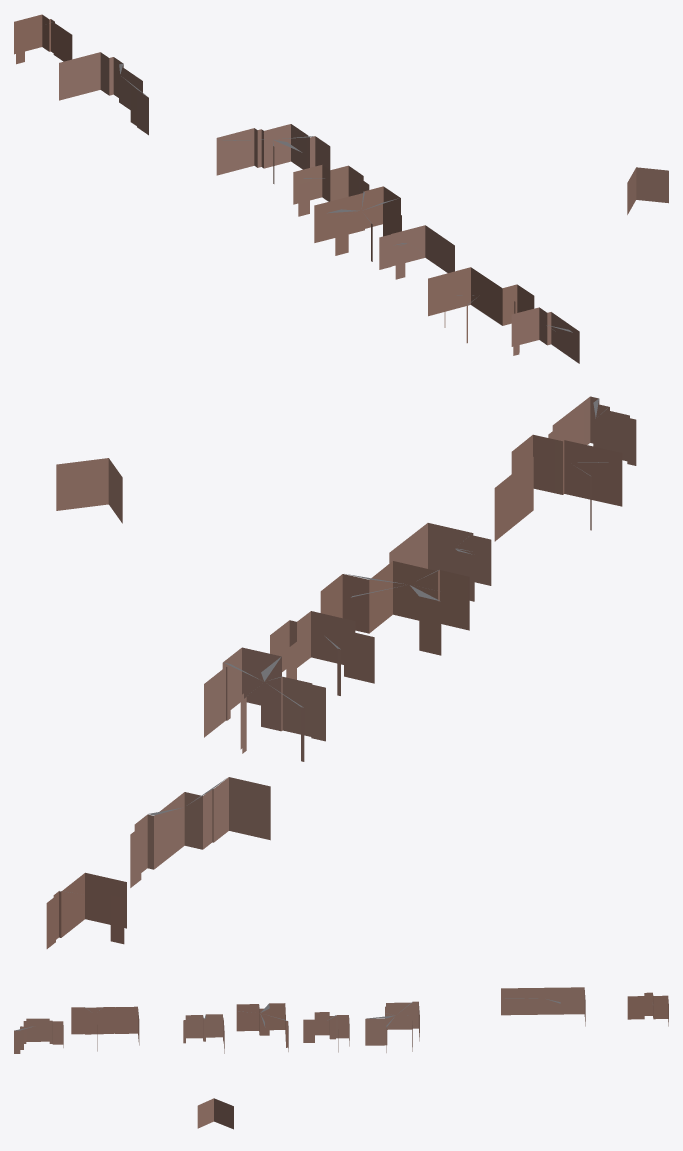
File: c_1645_17820_buildings_residential.glb
The picture shows the model from 3 angles, top to bottom: view 1: azimuth 30°, elevation 25°; view 2: azimuth 150°, elevation 25°; view 3: azimuth 270°, elevation 25°; orthographic projection. The views are drawn at different scales.
Visible parts, largest first — view 1: geometry_0; view 2: geometry_0; view 3: geometry_0.
Boxes of the visible parts, <box> form: geometry_0: <box>14,14,668,363</box>; geometry_0: <box>46,396,636,948</box>; geometry_0: <box>14,987,668,1129</box>.
Size of the model in its own units: 107 by 11.08 by 243.
